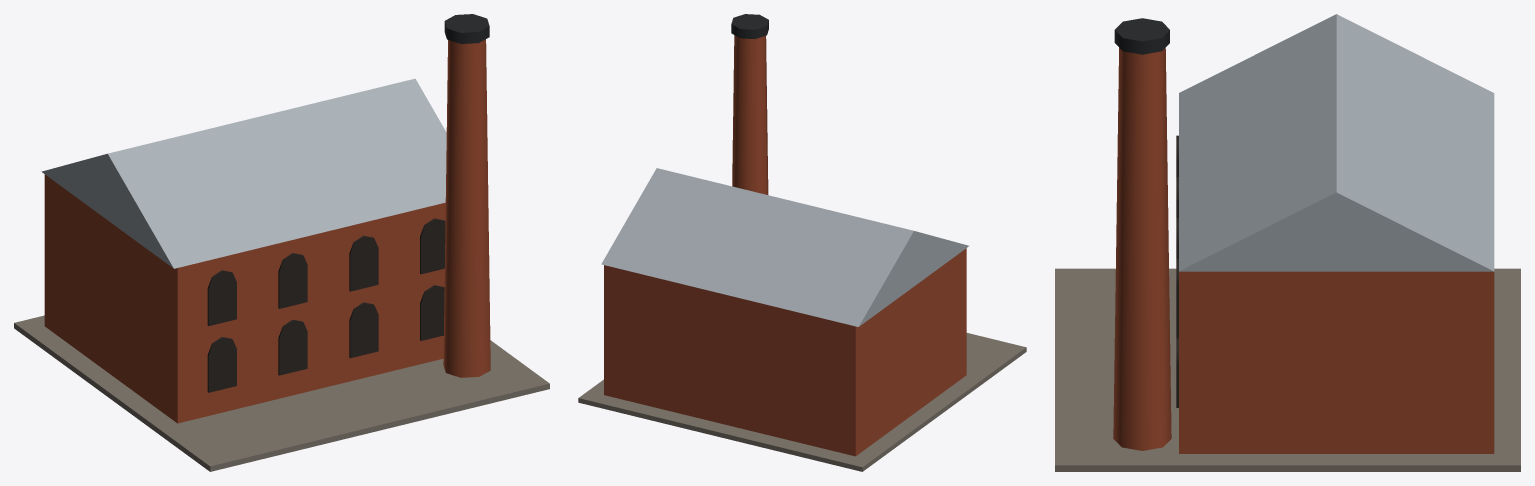
Rendered from zone_I_d3_e2.glb.
3 views of the same model, side by side, from view 1: azimuth 30°, elevation 25°; view 2: azimuth 150°, elevation 25°; view 3: azimuth 270°, elevation 25° (orthographic). The views are drawn at different scales.
Visible parts, largest first — view 1: zone_I_d3_e2; view 2: zone_I_d3_e2; view 3: zone_I_d3_e2.
Part boxes in pixels (x1,y1,x2,y2): zone_I_d3_e2: [14, 14, 549, 471]; zone_I_d3_e2: [578, 14, 1026, 471]; zone_I_d3_e2: [1055, 14, 1520, 471].
Size of the model in its own units: 0.96 by 0.945 by 0.96.
